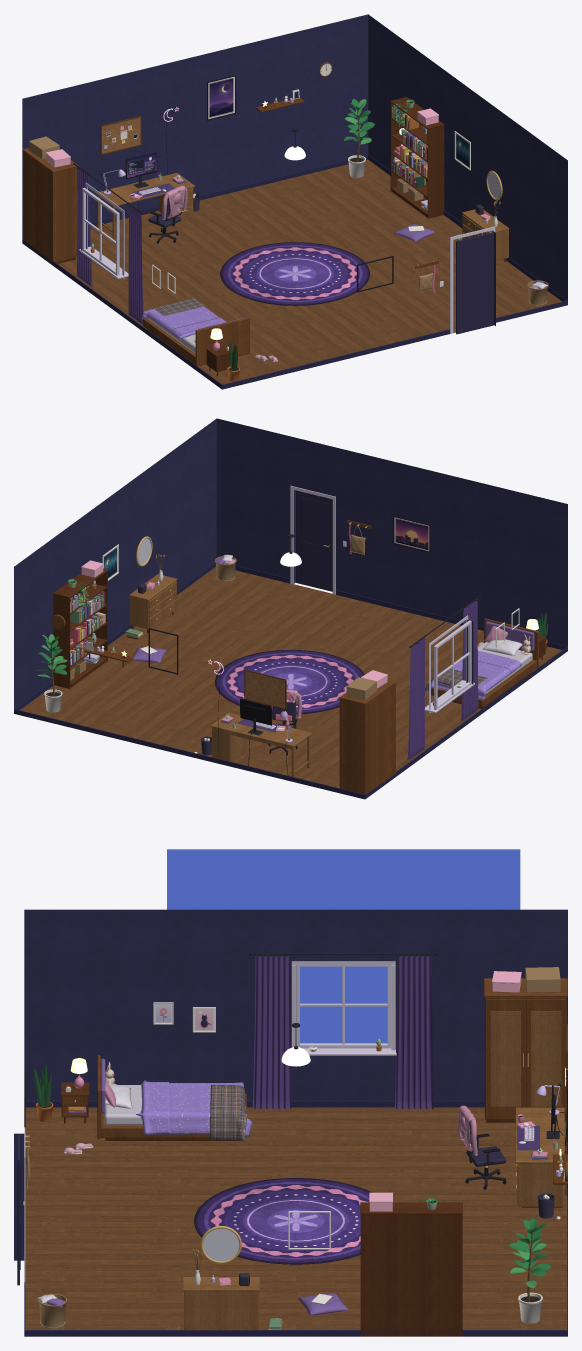
File: room.glb
3 renders of one model, top to bottom at view 1: azimuth 30°, elevation 25°; view 2: azimuth 150°, elevation 25°; view 3: azimuth 270°, elevation 25°, orthographic. The views are drawn at different scales.
Visible parts, largest first — view 1: Shell_Walls, Shell_Floor, Rug, Wardrobe, Shell_Skirting, Door, Bookshelf, Bookshelf_Items, Bed_Frame, Window_Frame, Desk, Curtain_R (+14 smaller); view 2: Shell_Walls, Shell_Floor, Wardrobe, Rug, Shell_Skirting, Door, Bookshelf, Desk, Bookshelf_Items, Dresser, Curtain_L, Window_Frame (+12 smaller); view 3: Shell_Floor, Shell_Walls, Window_Sky, Bookshelf, Rug, Wardrobe, Curtain_L, Curtain_R, Shell_Skirting, Dresser, Bed_Duvet, Window_Frame (+15 smaller).
Boxes of the visible parts, bbox=[...] form: Shell_Walls: bbox=[22, 14, 567, 325]; Shell_Floor: bbox=[23, 159, 561, 386]; Rug: bbox=[220, 242, 369, 305]; Wardrobe: bbox=[22, 148, 78, 263]; Shell_Skirting: bbox=[22, 154, 567, 389]; Door: bbox=[450, 226, 495, 334]; Bookshelf: bbox=[390, 97, 444, 218]; Bookshelf_Items: bbox=[392, 105, 438, 210]; Bed_Frame: bbox=[142, 317, 249, 366]; Window_Frame: bbox=[79, 182, 128, 279]; Desk: bbox=[95, 173, 194, 239]; Curtain_R: bbox=[128, 205, 143, 323]; Shell_Walls: bbox=[14, 418, 567, 708]; Shell_Floor: bbox=[20, 567, 567, 793]; Wardrobe: bbox=[339, 679, 396, 794]; Rug: bbox=[215, 650, 364, 714]; Shell_Skirting: bbox=[14, 562, 567, 799]; Door: bbox=[290, 485, 335, 594]; Bookshelf: bbox=[53, 568, 108, 688]; Desk: bbox=[210, 712, 311, 777]; Bookshelf_Items: bbox=[70, 560, 105, 680]; Dresser: bbox=[129, 574, 177, 632]; Curtain_L: bbox=[407, 637, 424, 759]; Window_Frame: bbox=[424, 615, 474, 713]; Shell_Floor: bbox=[25, 1107, 566, 1329]; Shell_Walls: bbox=[14, 909, 567, 1260]; Window_Sky: bbox=[167, 849, 520, 1043]; Bookshelf: bbox=[360, 1202, 462, 1336]; Rug: bbox=[194, 1178, 371, 1264]; Wardrobe: bbox=[484, 978, 567, 1122]; Curtain_L: bbox=[394, 956, 433, 1109]; Curtain_R: bbox=[252, 956, 291, 1109]; Shell_Skirting: bbox=[24, 1100, 567, 1336]; Dresser: bbox=[183, 1277, 259, 1330]; Bed_Duvet: bbox=[136, 1080, 252, 1136]; Window_Frame: bbox=[291, 961, 396, 1055].
Size of the model in its own units: 8.6 by 4.5 by 8.15.
97 materials, 32 textured.
